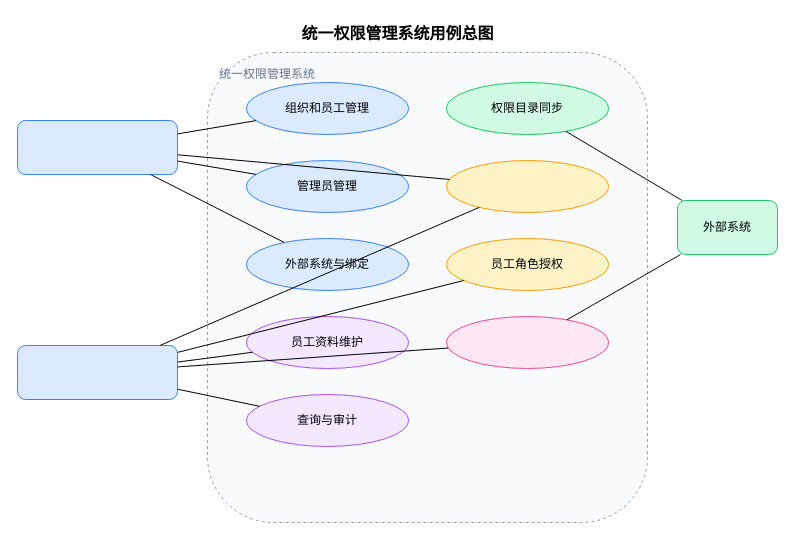
This 795x540 diagram has some shape labels left out. Here are the shapes that lost their labels. From the top down, the centre of each, then its label:
[97,147]: 最高管理员
[527,186]: 外部角色管理
[527,342]: 账号与授权同步
[97,372]: 部门管理员
